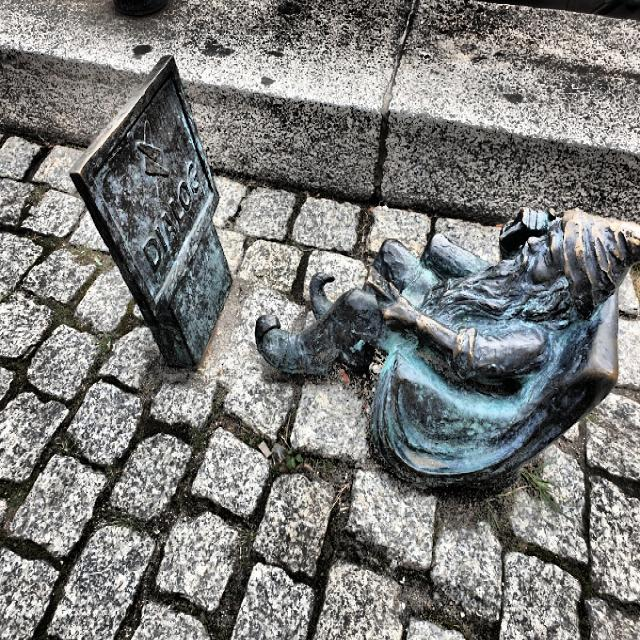Dialogomir: (232, 208, 640, 496), (70, 58, 235, 369)
